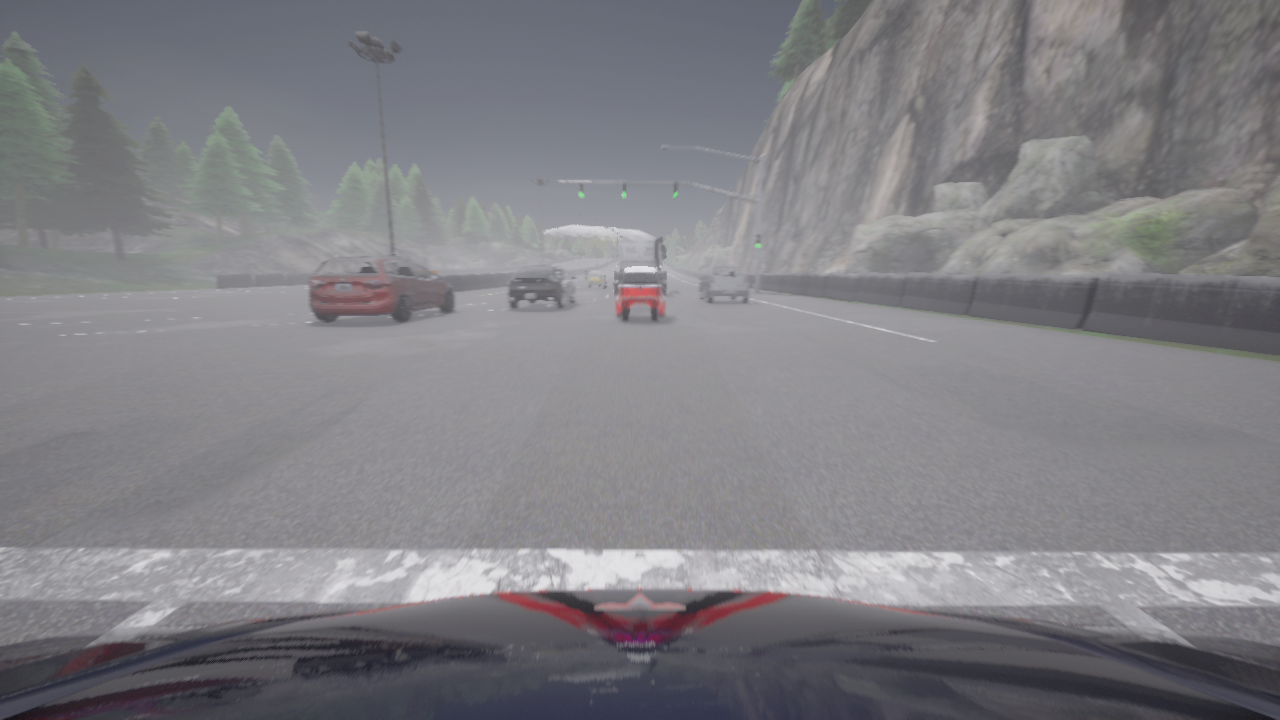cyclist: (0, 588, 1279, 719), (309, 255, 453, 320), (507, 264, 576, 308), (615, 236, 665, 294), (613, 267, 666, 321), (699, 266, 749, 302), (587, 270, 605, 287), (583, 271, 588, 280)
